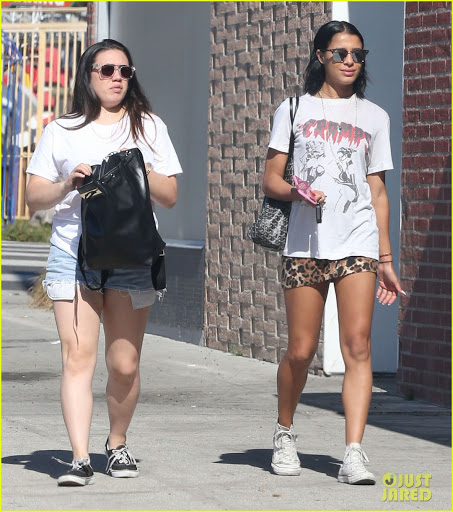Person: (246, 20, 409, 485), (23, 37, 184, 488)
